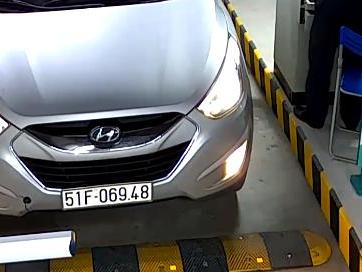number: (60, 181, 153, 211)
